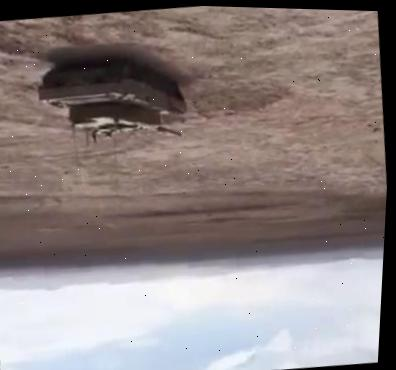tank: (30, 46, 191, 151)
